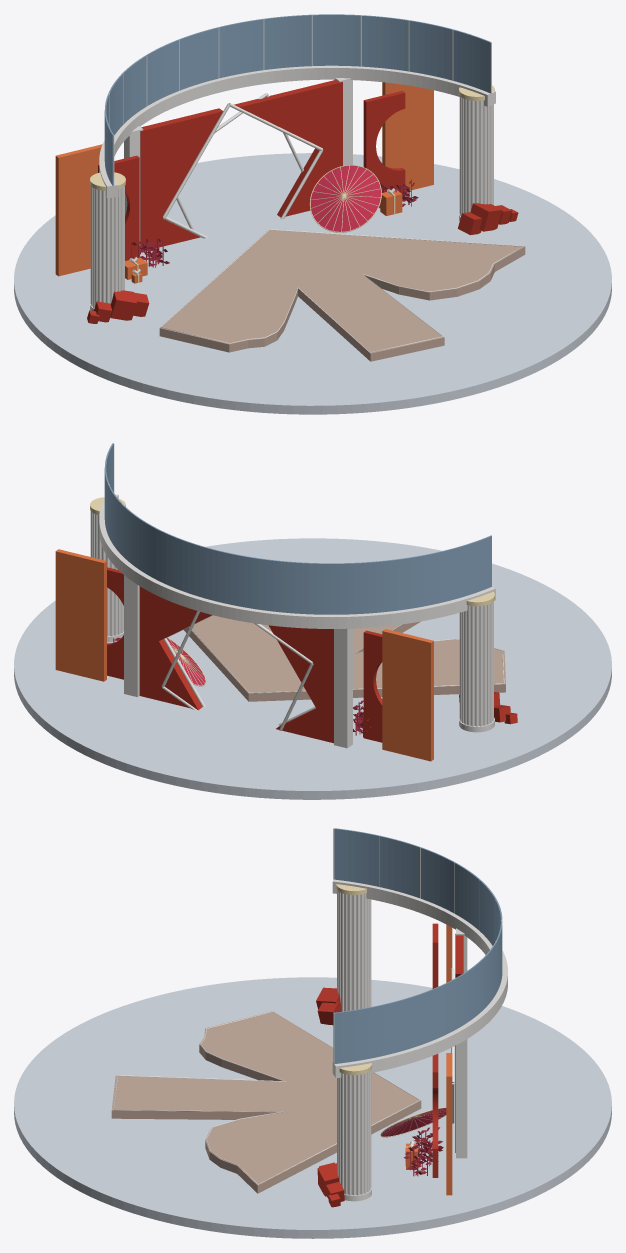
The picture shows the model from 3 angles, top to bottom: view 1: azimuth 30°, elevation 25°; view 2: azimuth 150°, elevation 25°; view 3: azimuth 270°, elevation 25°; orthographic projection.
Parts seen in each view (by area): view 1: GROUND_finite_work_extent, STAGE_shared_rounded_lobes, GLASS_finite_arc, WALL_red_with_opening, BAND_finite_arc, L_rear_ORANGE, R_rear_ORANGE, UMBRELLA_paper, R_front_NOTCHED, L_front_NOTCHED, L_COLUMN_core, R_COLUMN_core (+5 smaller); view 2: GROUND_finite_work_extent, GLASS_finite_arc, STAGE_shared_rounded_lobes, WALL_red_with_opening, L_rear_ORANGE, R_rear_ORANGE, BAND_finite_arc, WALL_white_reveal, L_front_NOTCHED, WALL_white_reveal.001, L_COLUMN_core, R_front_NOTCHED (+2 smaller); view 3: GROUND_finite_work_extent, STAGE_shared_rounded_lobes, GLASS_finite_arc, BAND_finite_arc, R_COLUMN_core, L_COLUMN_core, WALL_white_reveal.001, STAGE_shared_border, R_rear_ORANGE, R_front_NOTCHED, UMBRELLA_paper.
Boxes of the visible parts, x1,y1,x2,y2 form: GROUND_finite_work_extent: (14, 153, 611, 414); STAGE_shared_rounded_lobes: (159, 230, 525, 361); GLASS_finite_arc: (104, 14, 491, 185); WALL_red_with_opening: (140, 80, 342, 250); BAND_finite_arc: (99, 65, 495, 198); L_rear_ORANGE: (55, 144, 102, 276); R_rear_ORANGE: (382, 82, 433, 190); UMBRELLA_paper: (310, 165, 380, 231); R_front_NOTCHED: (363, 91, 405, 204); L_front_NOTCHED: (98, 155, 139, 260); L_COLUMN_core: (94, 189, 120, 307); R_COLUMN_core: (464, 99, 489, 212); GROUND_finite_work_extent: (14, 538, 611, 799); GLASS_finite_arc: (104, 443, 491, 614); STAGE_shared_rounded_lobes: (183, 615, 505, 701); WALL_red_with_opening: (139, 586, 333, 743); L_rear_ORANGE: (382, 629, 433, 761); R_rear_ORANGE: (55, 549, 106, 681); BAND_finite_arc: (99, 494, 495, 628); WALL_white_reveal: (334, 628, 352, 748); L_front_NOTCHED: (363, 630, 382, 742); WALL_white_reveal.001: (124, 575, 139, 697); L_COLUMN_core: (464, 604, 489, 725); R_front_NOTCHED: (107, 567, 123, 679); GROUND_finite_work_extent: (14, 977, 611, 1238); STAGE_shared_rounded_lobes: (111, 1011, 421, 1193); GLASS_finite_arc: (334, 828, 502, 1063); BAND_finite_arc: (332, 879, 507, 1078); R_COLUMN_core: (341, 1073, 367, 1194); L_COLUMN_core: (341, 893, 367, 1011); WALL_white_reveal.001: (456, 1039, 467, 1158); STAGE_shared_border: (113, 1011, 420, 1184); R_rear_ORANGE: (446, 1053, 452, 1195); R_front_NOTCHED: (432, 1054, 438, 1177); UMBRELLA_paper: (381, 1108, 446, 1136).
Size of what is drawn, in the model's own units: 16 by 6.55 by 16.
